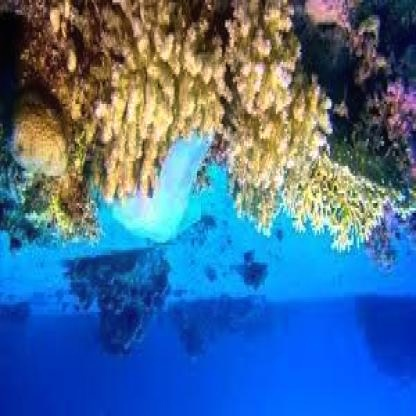pbag: (109, 129, 215, 245)
